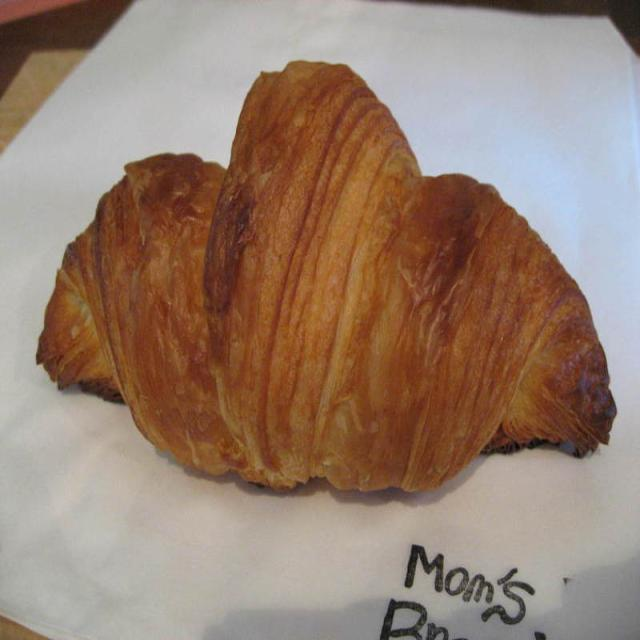Croissant: (32, 51, 622, 508)
